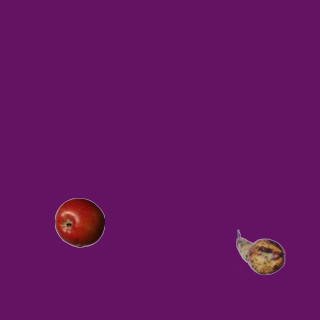Apple Braeburn: (54, 197, 104, 247)
Pear Abate: (235, 227, 285, 277)
